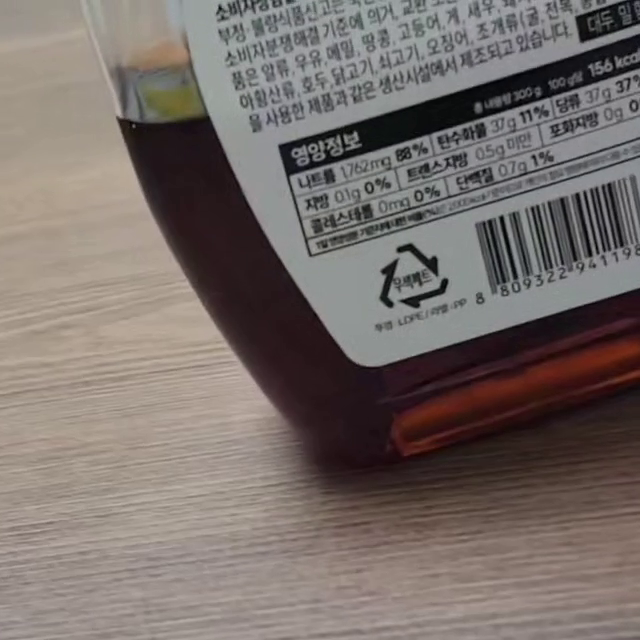ColorlessPet: (376, 242, 449, 311)
